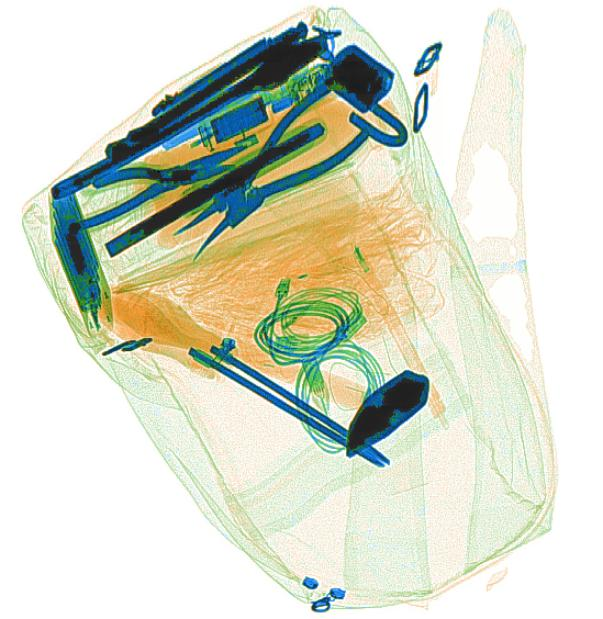battery: (48, 181, 116, 339)
